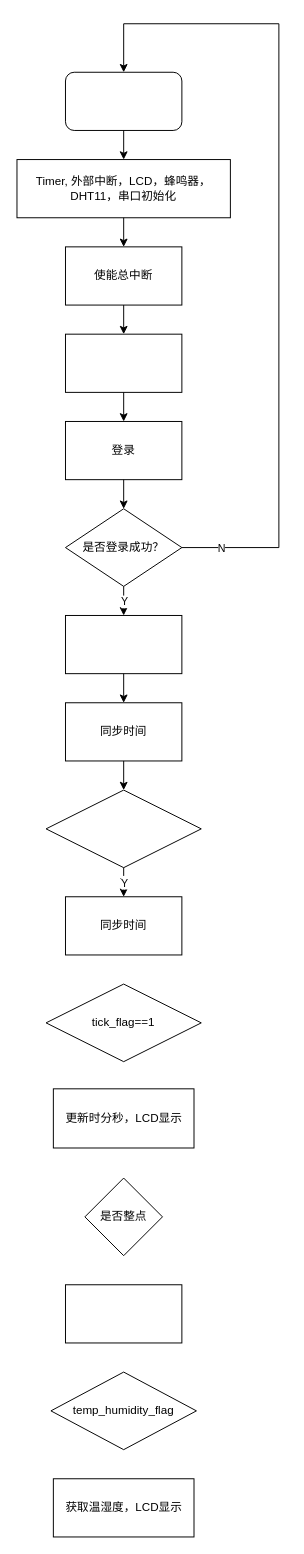
This 304x1554 diagram has some shape labels left out. Each missing label, with the centre of its shape:
sync_flag==1: point 123,828
展示用户信息: point 123,644
开始: point 123,100
开机动画: point 123,362
报时: point 123,1313
